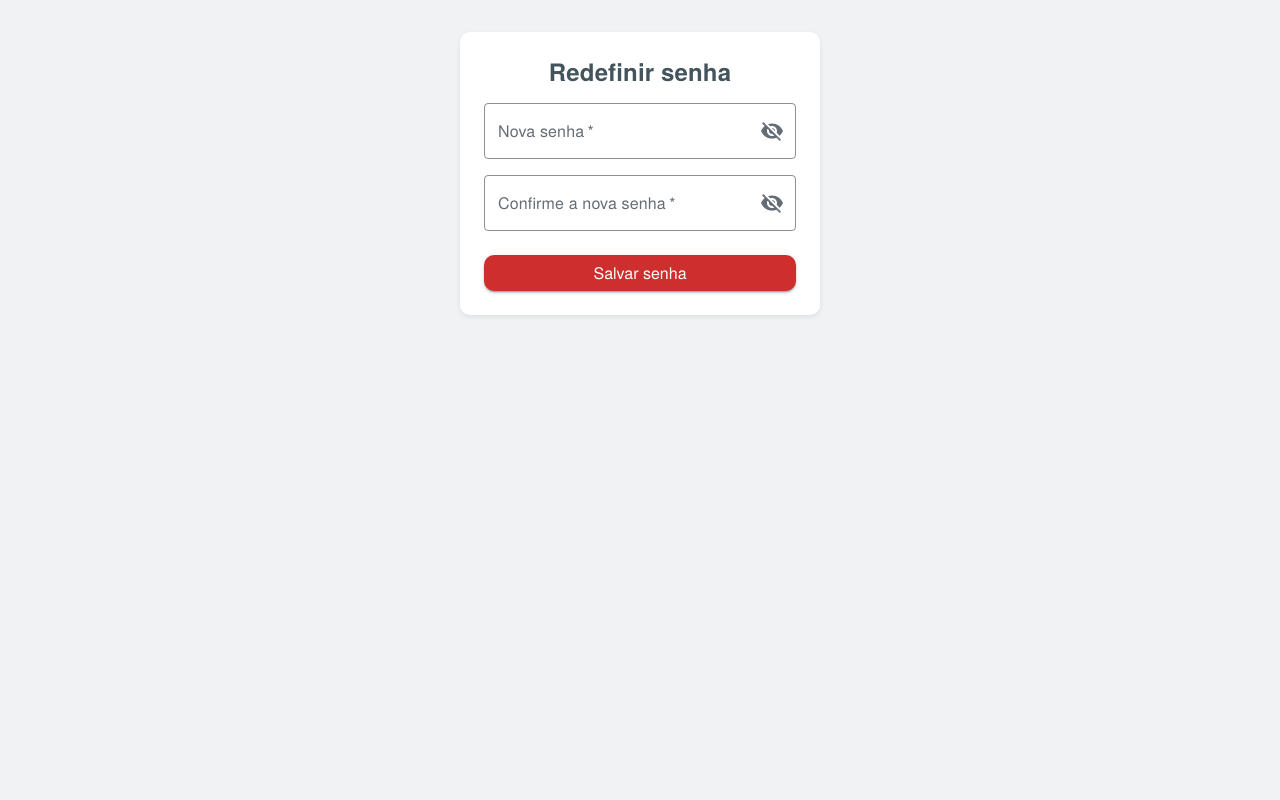
Test: ResetPassword › should offer to reactivate a deactivated account with the new password
This screenshot has width=1280, height=800.
Step 1. Type "senha-nova-1" into the password field labelled "Nova senha *" → {"x": 614, "y": 131}, box [484,103,744,159]
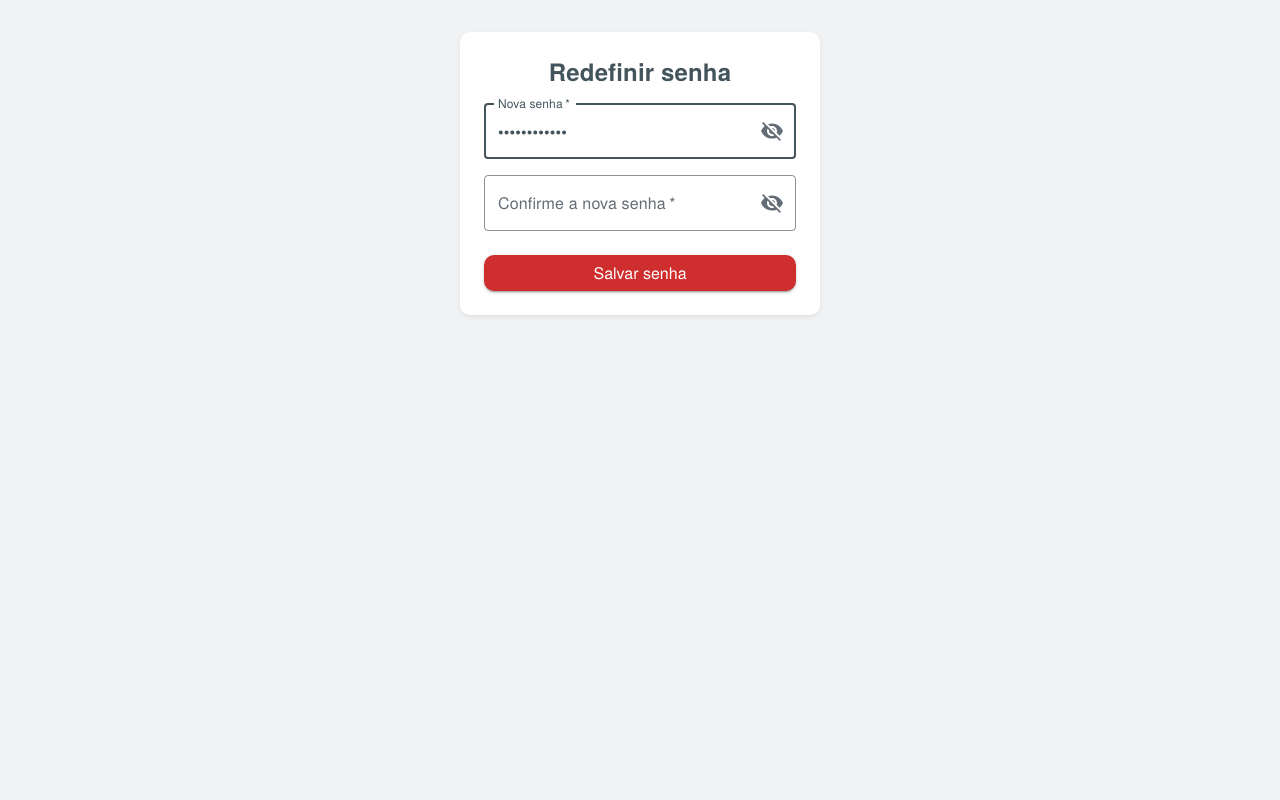
Step 2. Type "senha-nova-1" into the password field labelled "Confirme a nova senha *" → {"x": 614, "y": 203}, box [484,175,744,231]
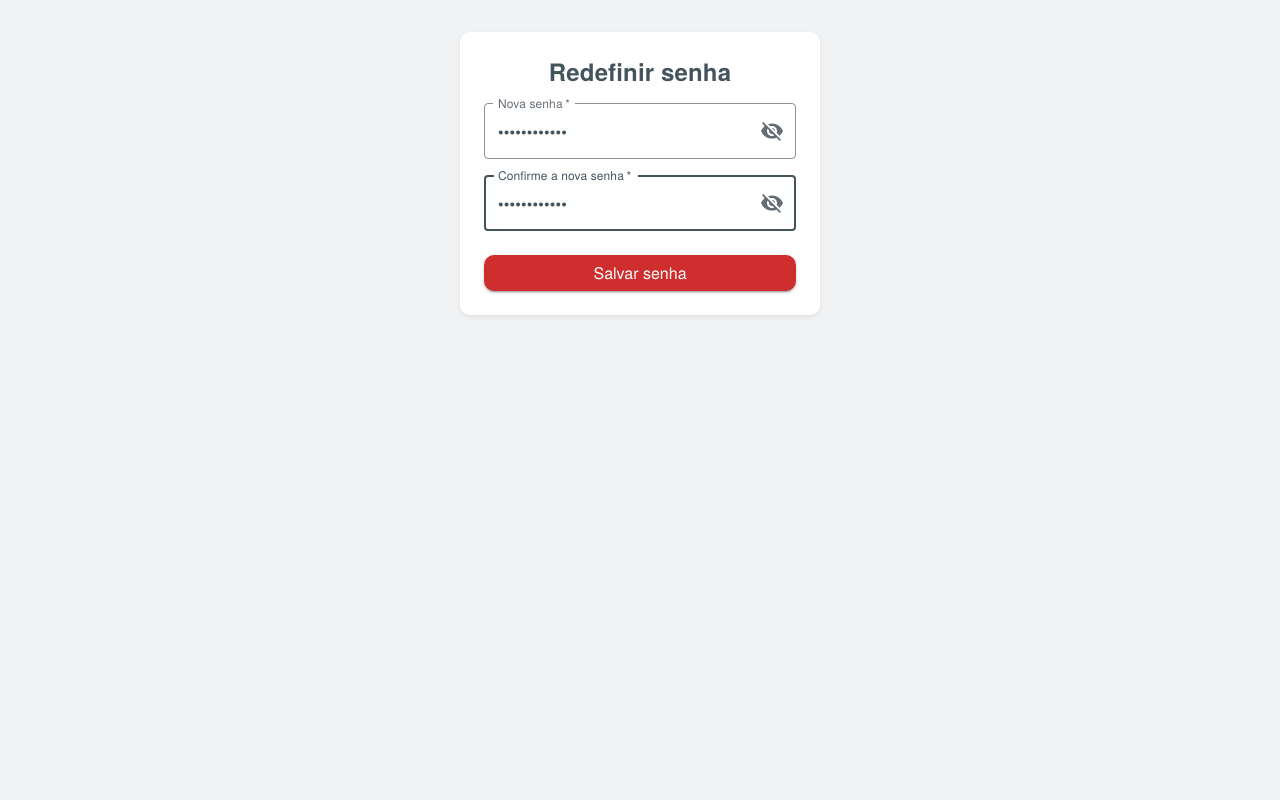
Step 3. Click the button "Salvar senha" → {"x": 640, "y": 273}, box [484,255,796,291]
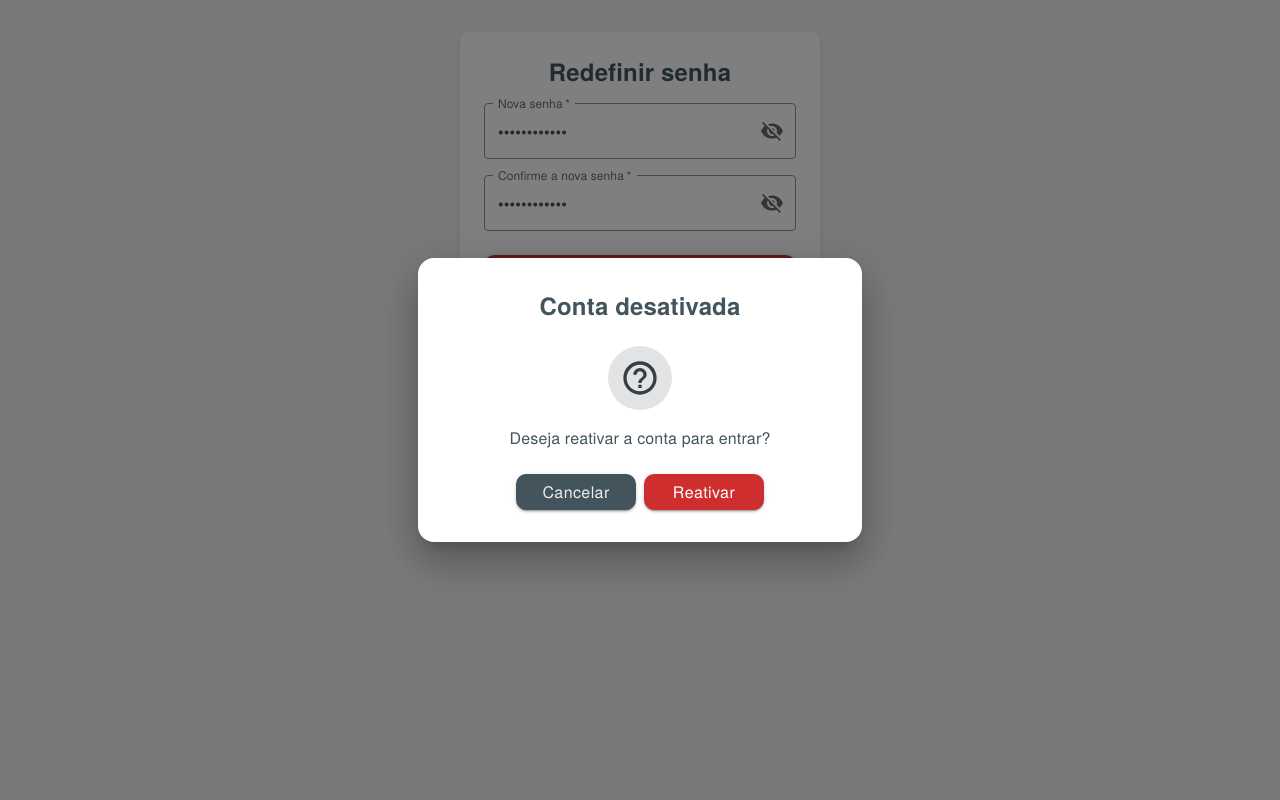
Step 4. Click the button "Reativar" → {"x": 704, "y": 492}, box [644,474,764,510]
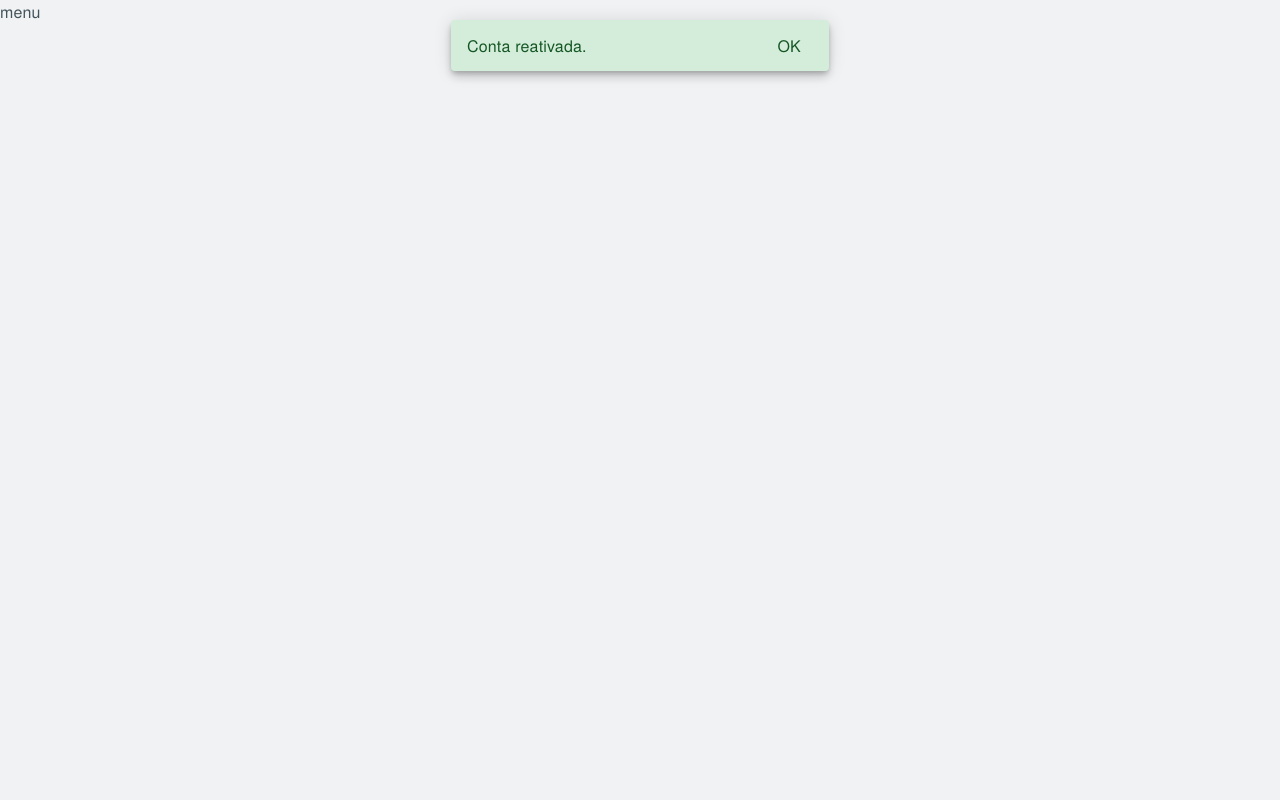
Check: the text "Conta reativada." is shown, box [467,34,587,57]
